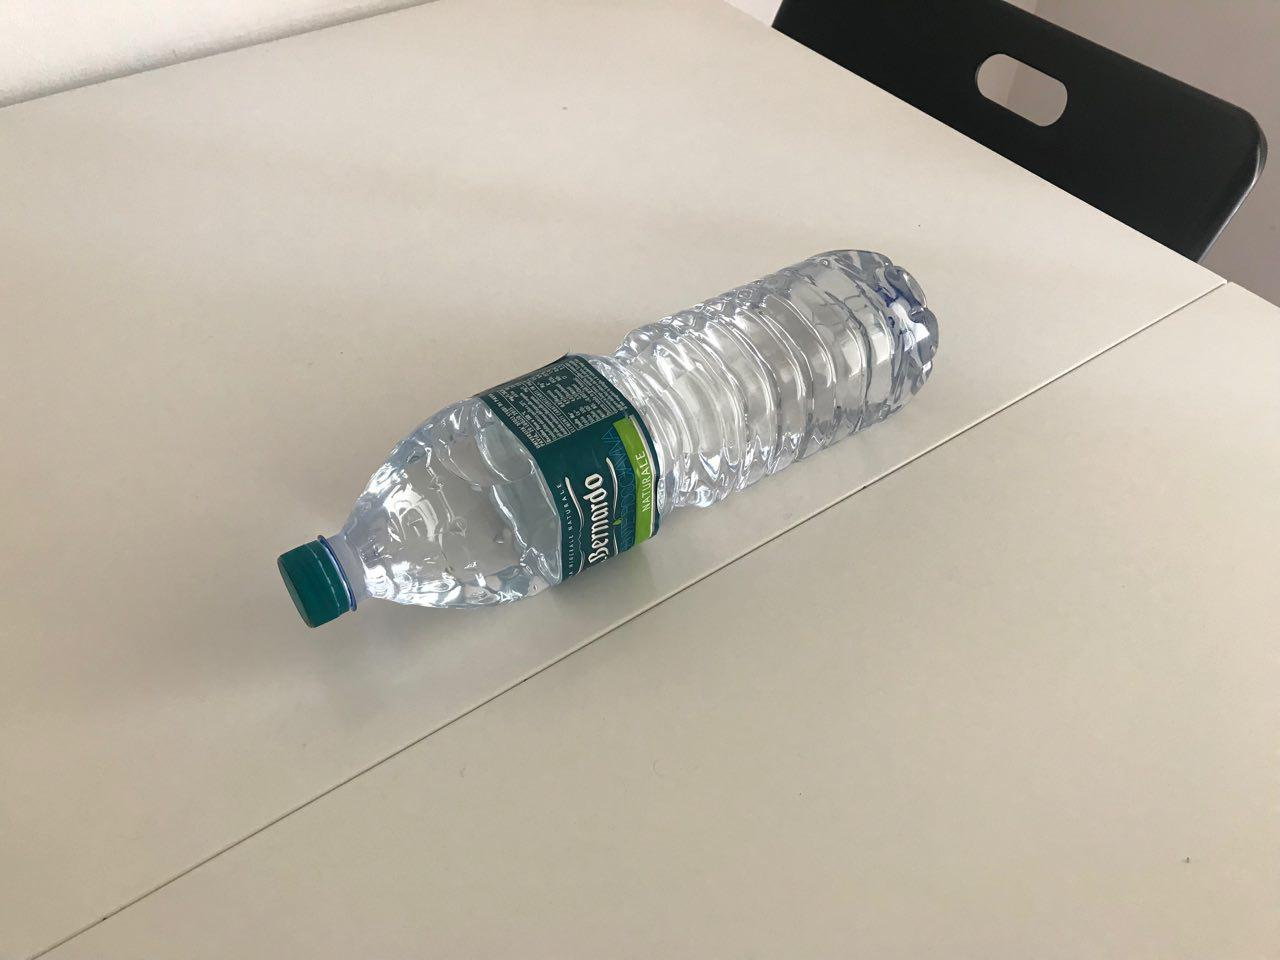san_bernardo: (276, 247, 940, 630)
